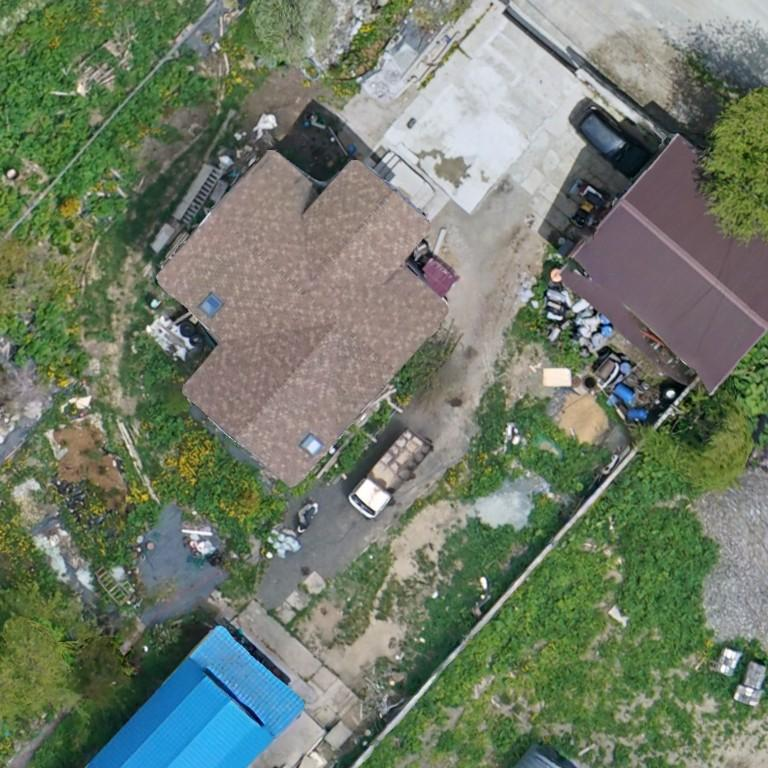hogweed: (394, 551, 611, 750), (604, 454, 718, 682), (52, 58, 208, 196), (0, 45, 115, 181), (117, 0, 183, 87), (542, 663, 591, 722), (679, 671, 736, 699), (493, 720, 516, 754), (438, 731, 459, 752)
